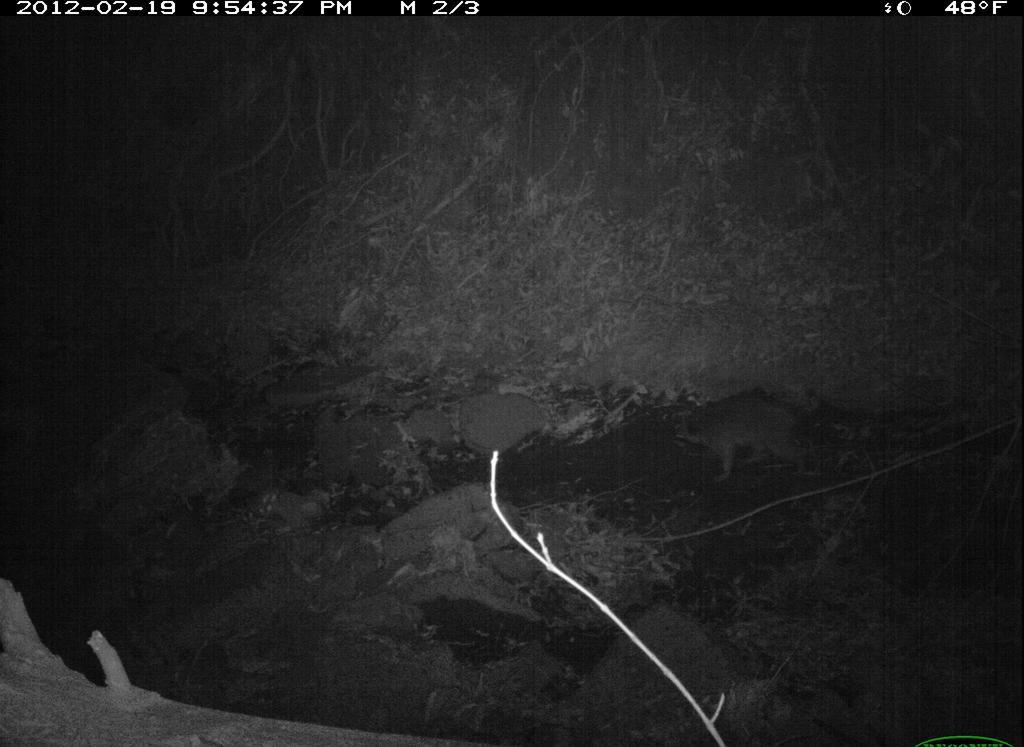raccoon: (662, 385, 833, 488)
